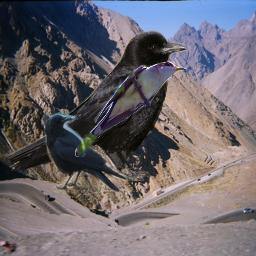Crow: (4, 30, 189, 181), (44, 111, 126, 195)
Cuckoo: (75, 61, 186, 157)
